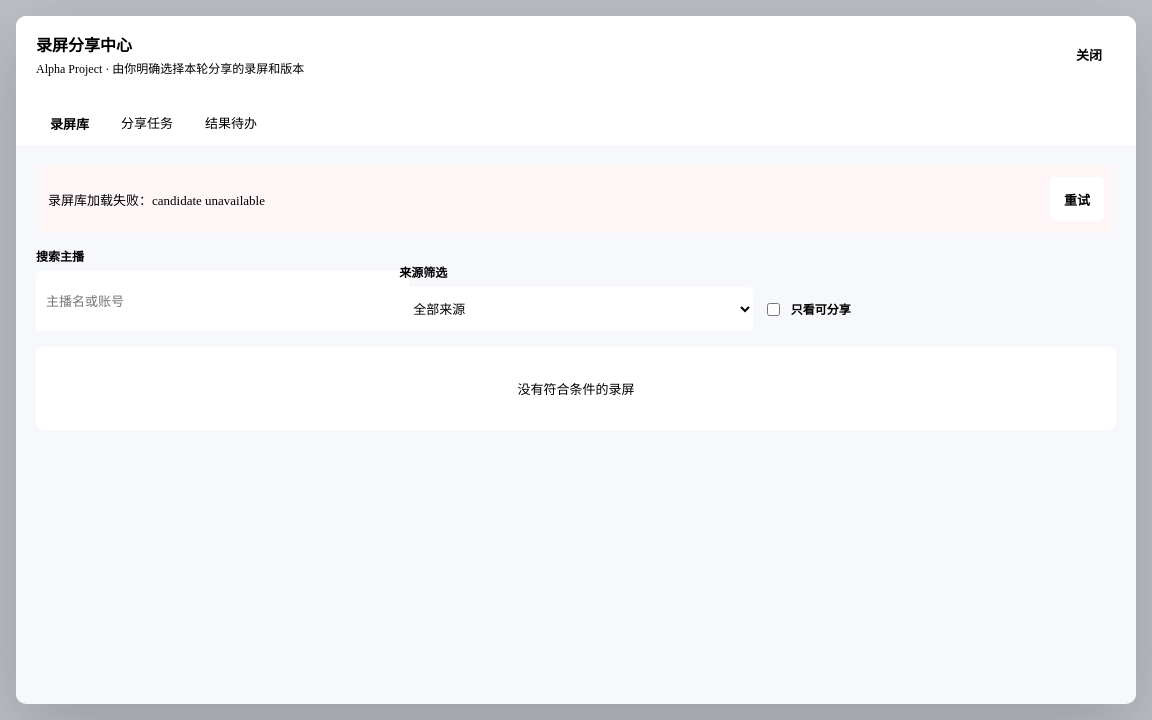
Test case: AdmissionShareCenter › loads candidates and tasks independently with a scoped retry
The width and height of the screenshot is (1152, 720).
Expected: the message shows "录屏库加载失败：candidate unavailable", [36,165,1116,233]
Click the tab "分享任务" at (147, 123), box [107,101,187,145]
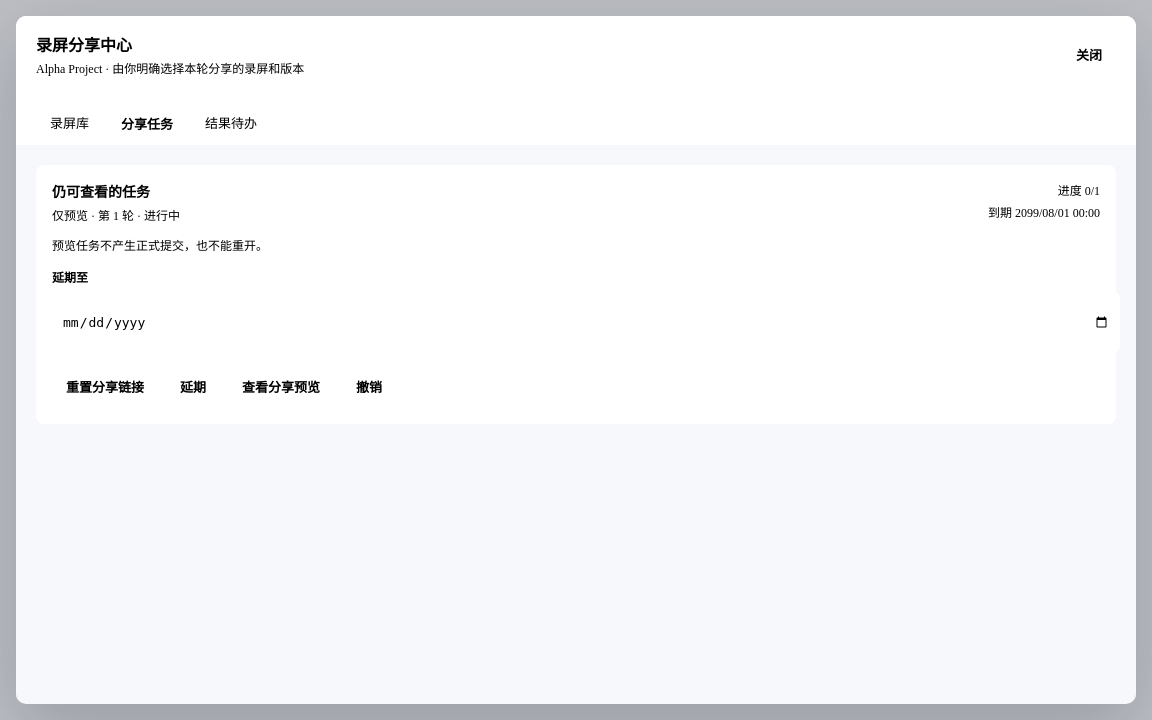
Expected: the text "仍可查看的任务" is shown, [52,185,150,200]
Click the tab "录屏库" at (70, 123), box [36,101,103,145]
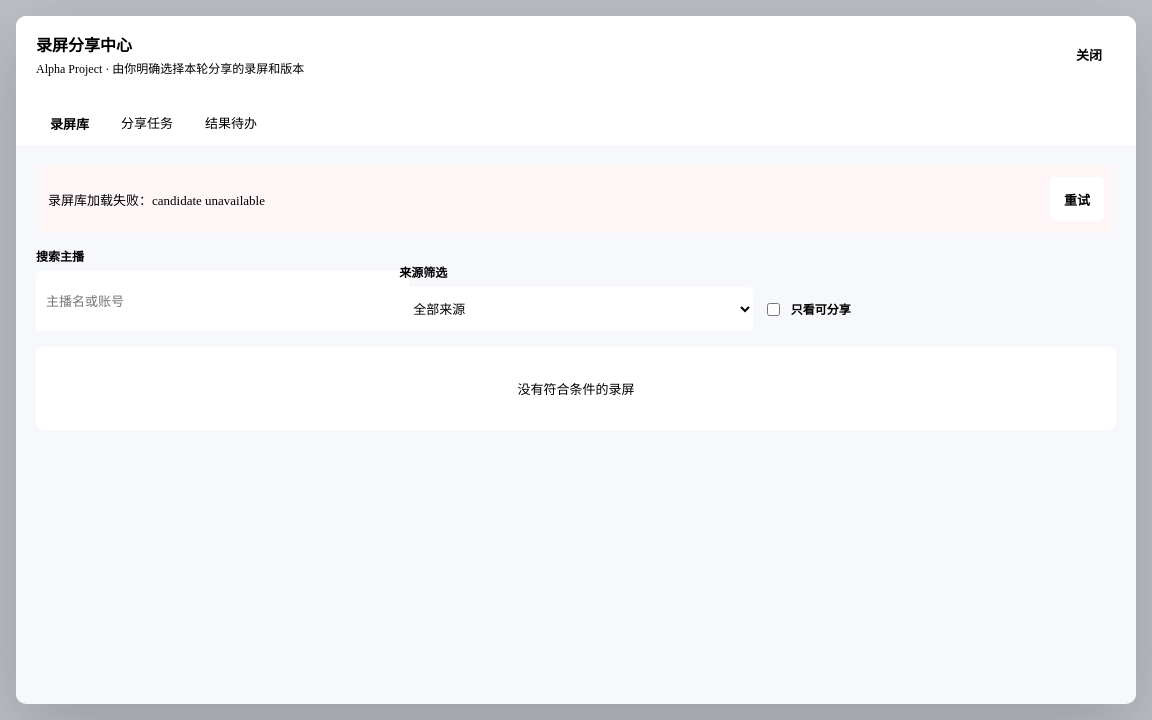
Click the button with aria-label "重试加载录屏库" at (1077, 199), box [1050,177,1104,221]
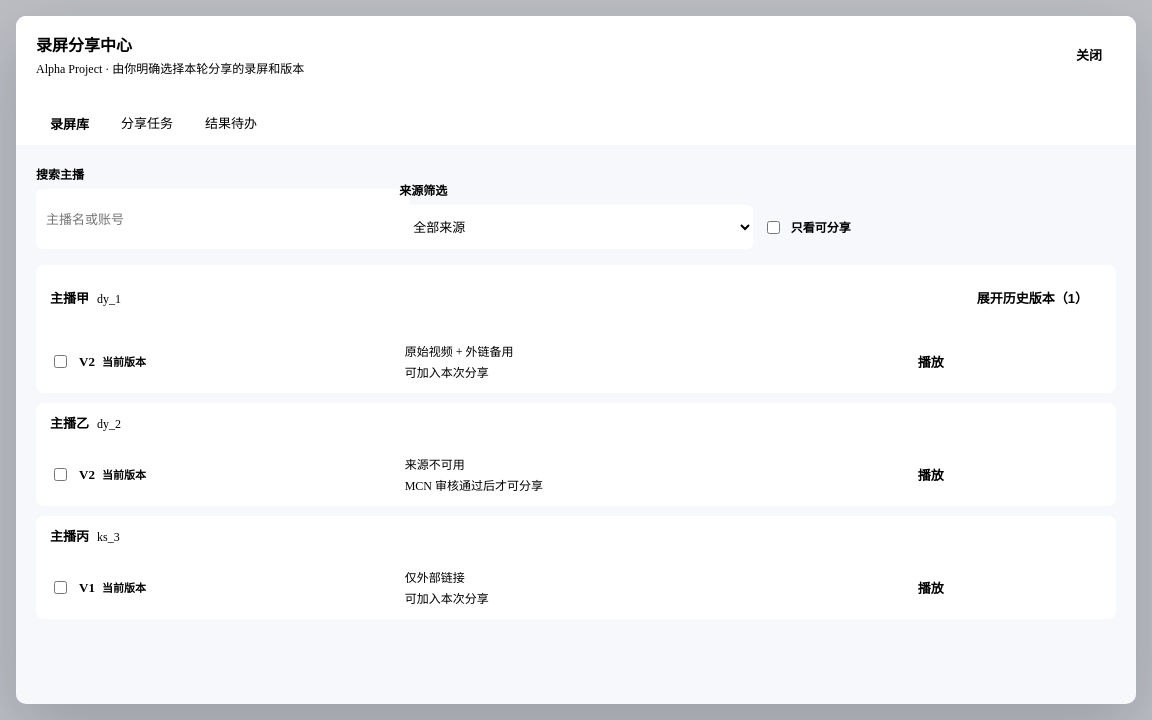
Expected: the text "主播甲" is shown, [50,290,89,306]
